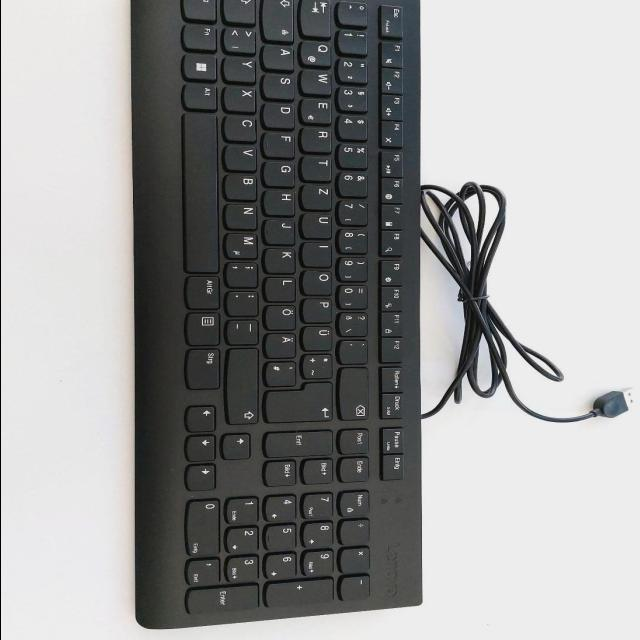0: (339, 283, 371, 309)
1: (338, 29, 370, 54)
2: (338, 57, 370, 83)
3: (338, 86, 370, 112)
4: (338, 114, 370, 139)
5: (338, 142, 370, 168)
6: (338, 171, 370, 197)
7: (339, 199, 371, 225)
8: (338, 227, 370, 253)
9: (338, 255, 370, 281)
a: (263, 44, 297, 70)
accent: (339, 338, 371, 363)
ae: (264, 332, 298, 358)
alt-left: (184, 82, 220, 109)
altgr-right: (187, 273, 223, 308)
b: (225, 174, 260, 200)
c: (225, 114, 259, 141)
caret: (339, 0, 370, 25)
comma: (226, 261, 260, 287)
d: (263, 102, 297, 128)
del: (340, 366, 372, 420)
e: (300, 97, 334, 123)
enter: (265, 380, 336, 422)
f: (263, 131, 297, 157)
g: (263, 160, 297, 186)
h: (263, 189, 297, 215)
hash: (265, 360, 299, 386)
i: (302, 241, 334, 267)
j: (264, 218, 298, 244)
k: (264, 247, 298, 273)
keyboard: (133, 0, 430, 629)
l: (264, 275, 298, 301)
less: (223, 26, 259, 53)
m: (225, 232, 260, 258)
minus: (226, 318, 261, 344)
n: (225, 203, 259, 229)
o: (302, 269, 334, 295)
oe: (264, 304, 298, 330)
p: (301, 297, 335, 323)
plus: (303, 352, 335, 378)
point: (226, 290, 260, 316)
q: (300, 40, 334, 66)
r: (301, 126, 333, 152)
s: (263, 73, 297, 99)
shift-left: (224, 0, 258, 22)
shift-lock: (263, 0, 297, 41)
shift-right: (228, 346, 262, 424)
space: (184, 111, 221, 272)
ss: (339, 311, 371, 336)
strg-left: (183, 0, 219, 20)
strg-right: (187, 346, 223, 389)
t: (301, 155, 333, 181)
tab: (301, 0, 334, 36)
u: (302, 212, 334, 238)
ue: (301, 325, 335, 351)
v: (225, 144, 259, 171)
w: (301, 68, 335, 94)
x: (224, 85, 258, 112)
y: (223, 56, 258, 82)
z: (301, 184, 333, 210)
